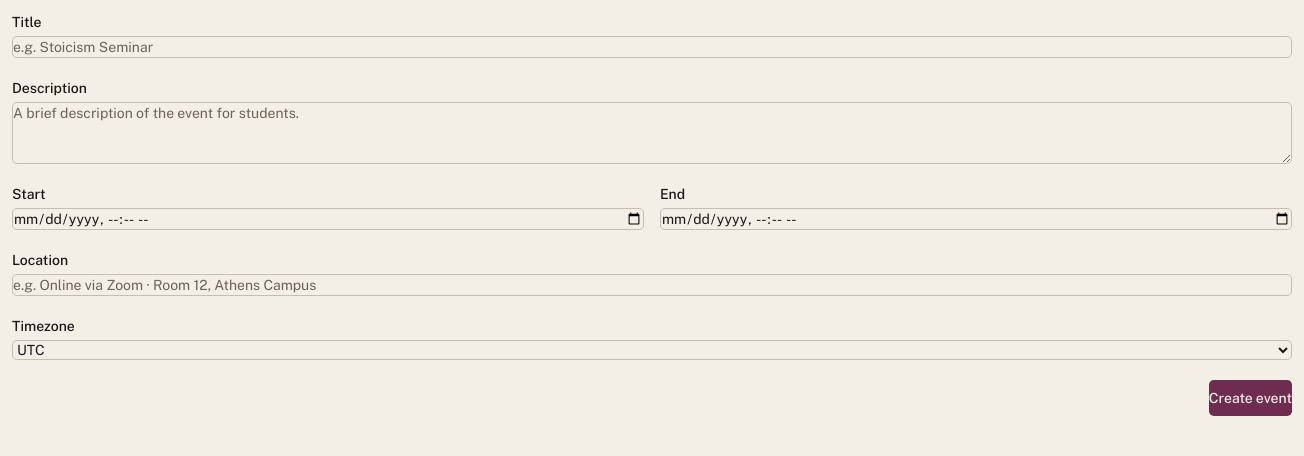
Test case: events-006 — EventForm validates end-after-start › shows a validation error when end is before start
The width and height of the screenshot is (1304, 456).
In the field labelled "Title": (652,47) [12,36,1292,58], type "Test Event"
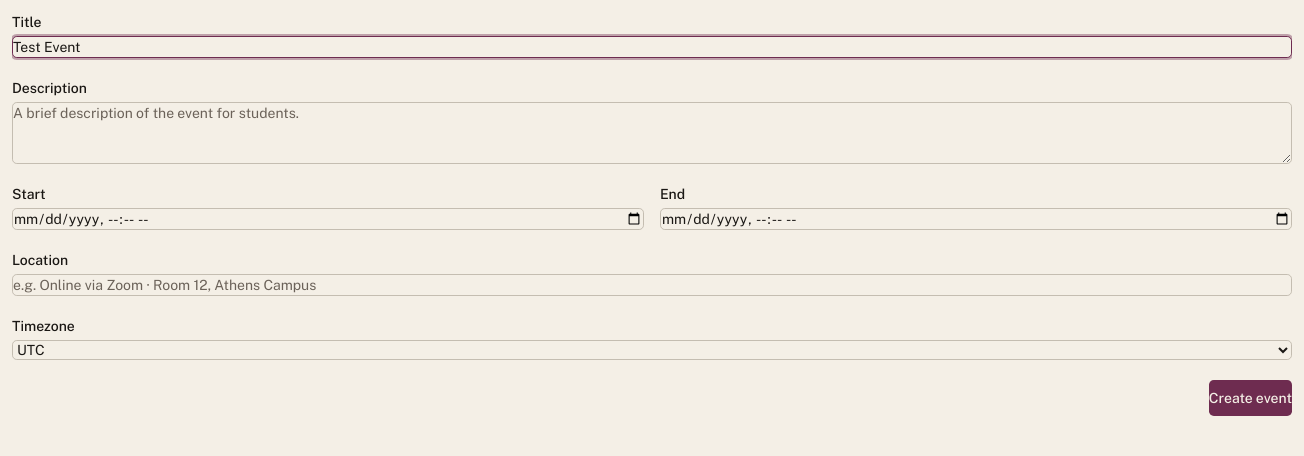
In the text box labelled "Description": (652,133) [12,102,1292,164], type "A description"
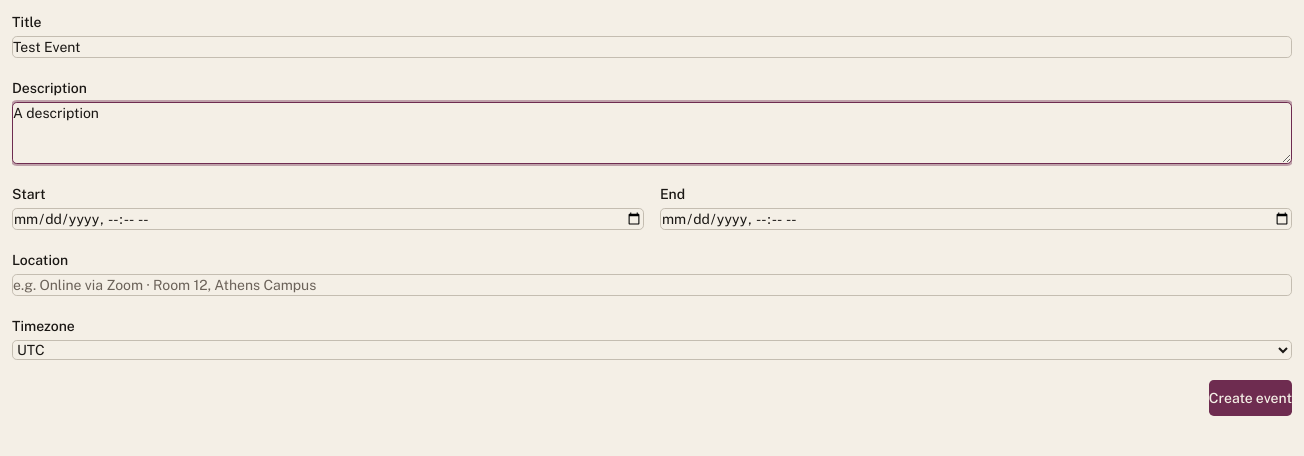
In the field labelled "Location": (652,285) [12,274,1292,296], type "Online"
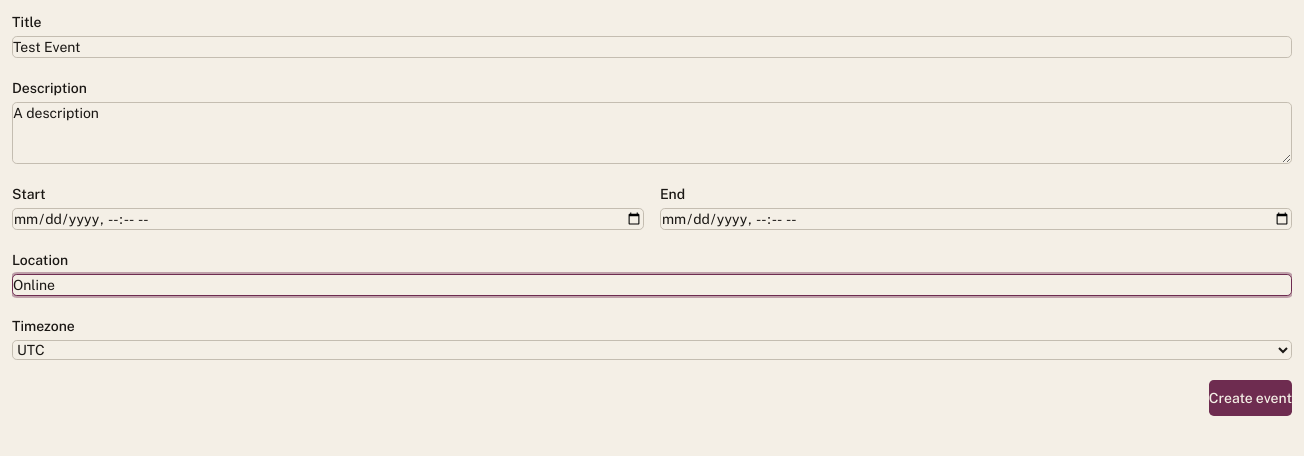
Note: Set start and end via fireEvent (datetime-local inputs)
In the field labelled "Start": (328,219) [12,208,644,230], type "2026-09-01T10:00"
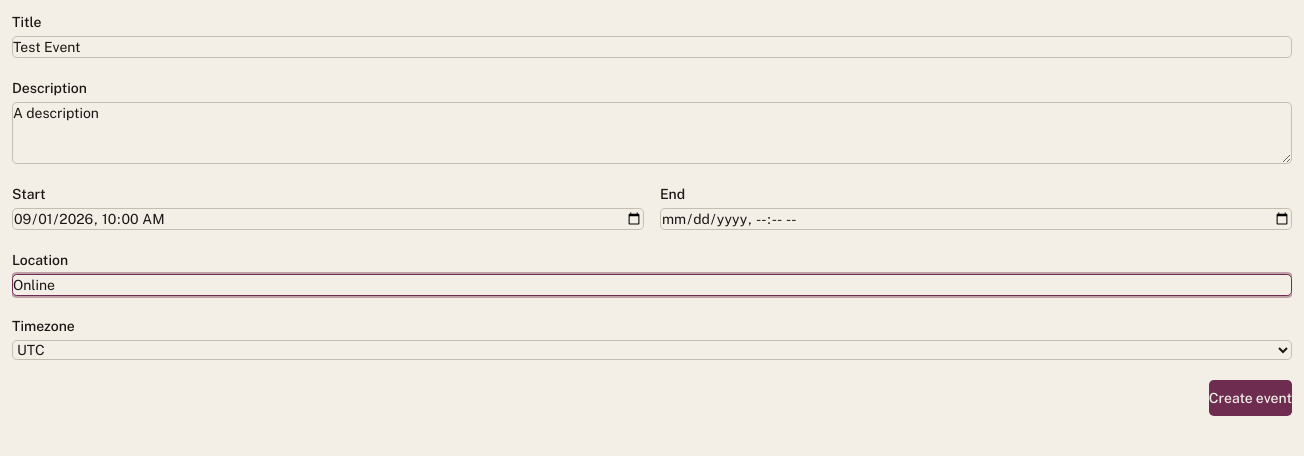
In the field labelled "End": (976,219) [660,208,1292,230], type "2026-09-01T09:00"
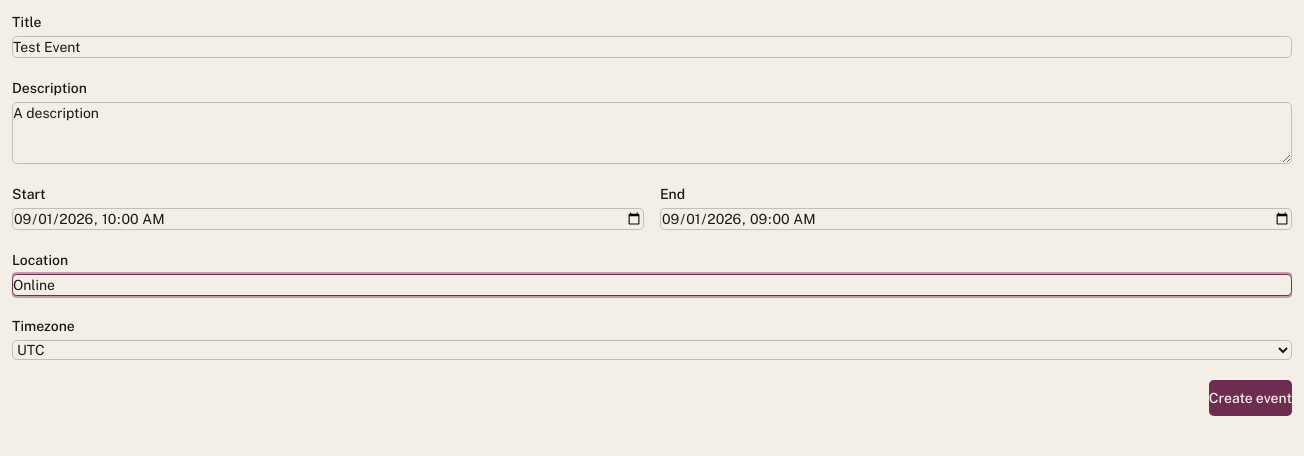
Click the button "Create event": (1250,398) [1209,380,1292,416]
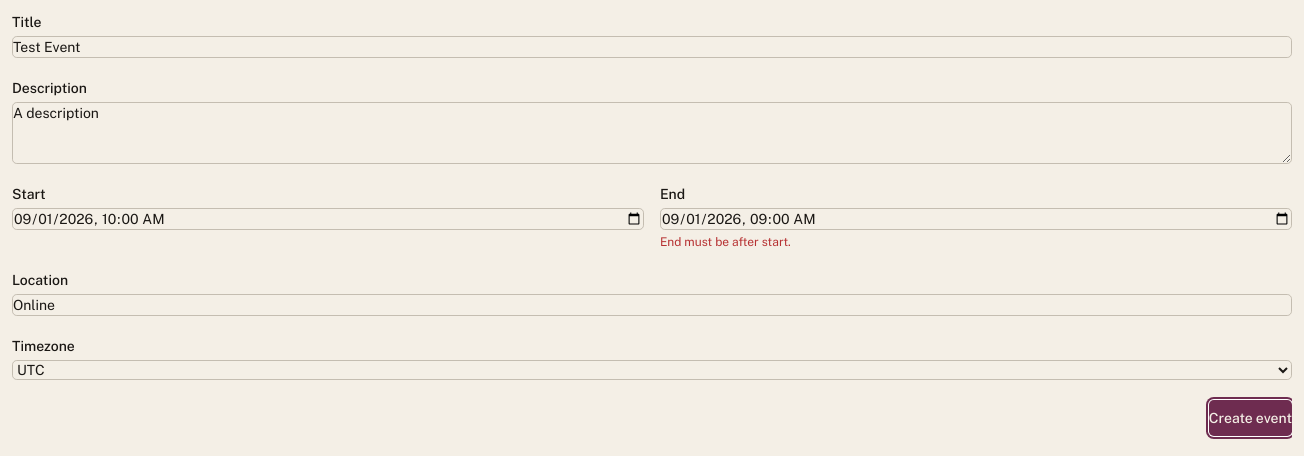
Expected: the message shows "End must be after start", [660,235,791,249]
